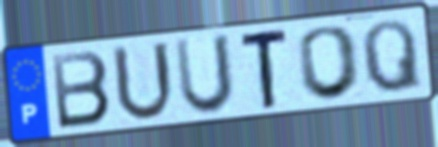B: (48, 49, 114, 133)
O: (297, 23, 365, 103)
Q: (359, 17, 426, 95)
T: (239, 25, 291, 112)
U: (109, 39, 177, 125), (172, 31, 237, 118)
